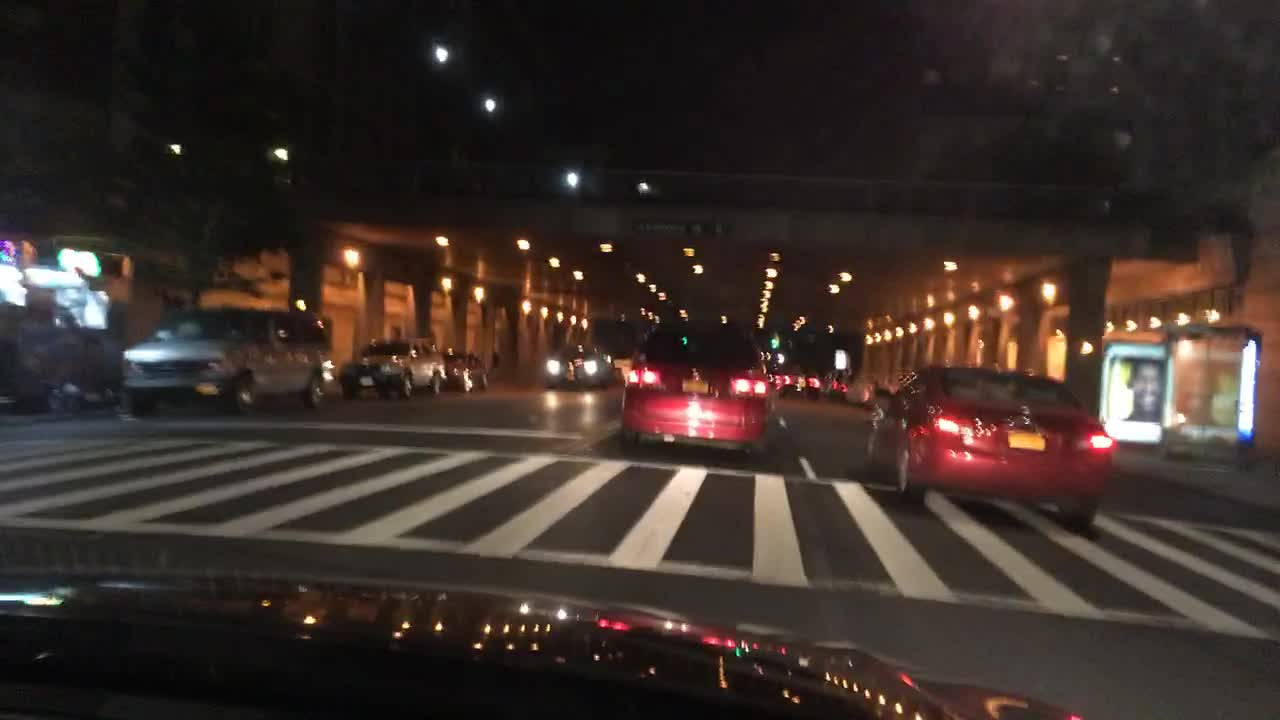car: (864, 364, 1122, 526), (118, 303, 338, 416), (617, 312, 774, 459), (1, 300, 126, 413), (334, 335, 451, 400), (540, 339, 616, 392), (439, 345, 492, 392), (771, 366, 823, 398), (822, 370, 852, 406)
